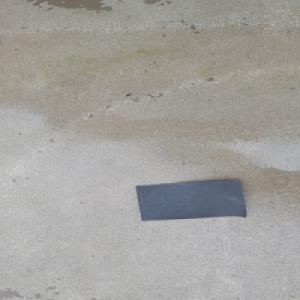PaintChip: (134, 179, 247, 221)
